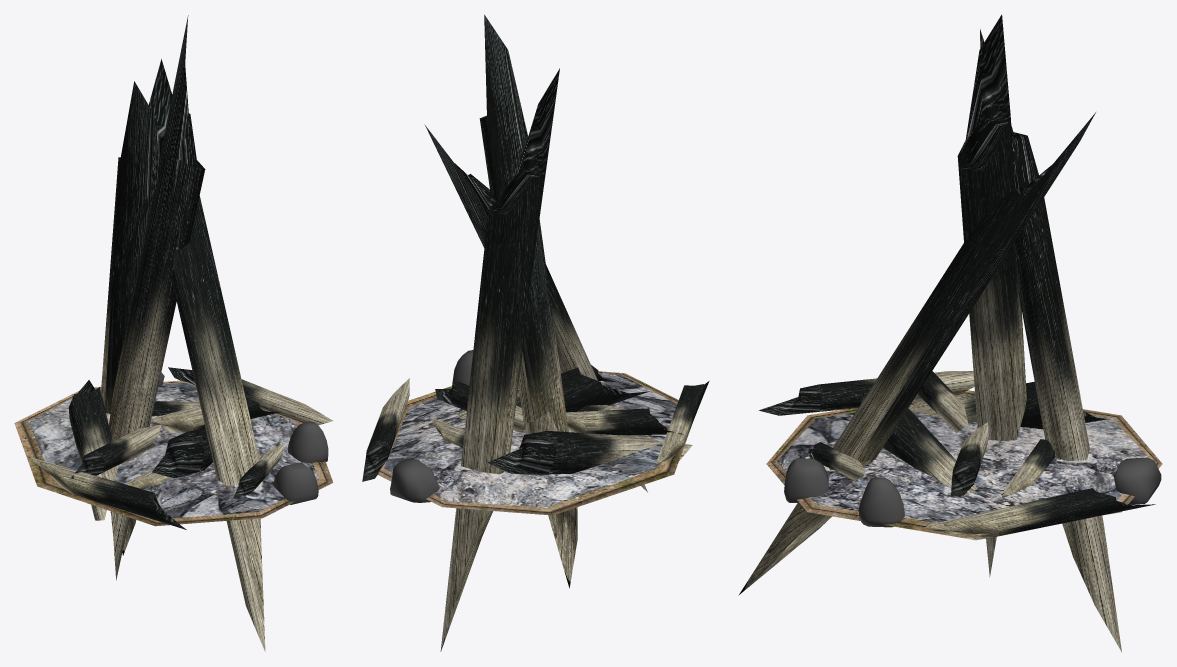
Rendered from Firepit.obj.
3 renders of one model, left to right at view 1: azimuth 30°, elevation 25°; view 2: azimuth 150°, elevation 25°; view 3: azimuth 270°, elevation 25°, orthographic. The views are drawn at different scales.
Parts seen in each view (by area): view 1: Rock3:RoadKillOut; view 2: Rock3:RoadKillOut; view 3: Rock3:RoadKillOut.
Part boxes in pixels (left/top/right/bottom): Rock3:RoadKillOut: left=14, top=15, right=333, bottom=652; Rock3:RoadKillOut: left=362, top=14, right=709, bottom=651; Rock3:RoadKillOut: left=738, top=14, right=1162, bottom=652.
Size of the model in its own units: 984 by 1967 by 1173.
